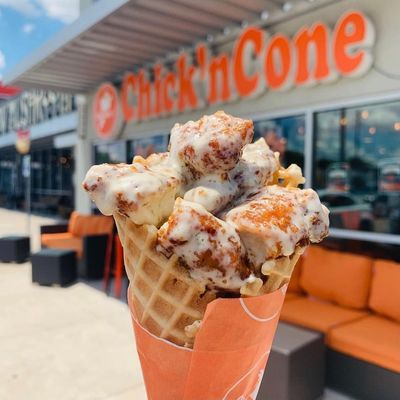pizza: (263, 126, 304, 172)
